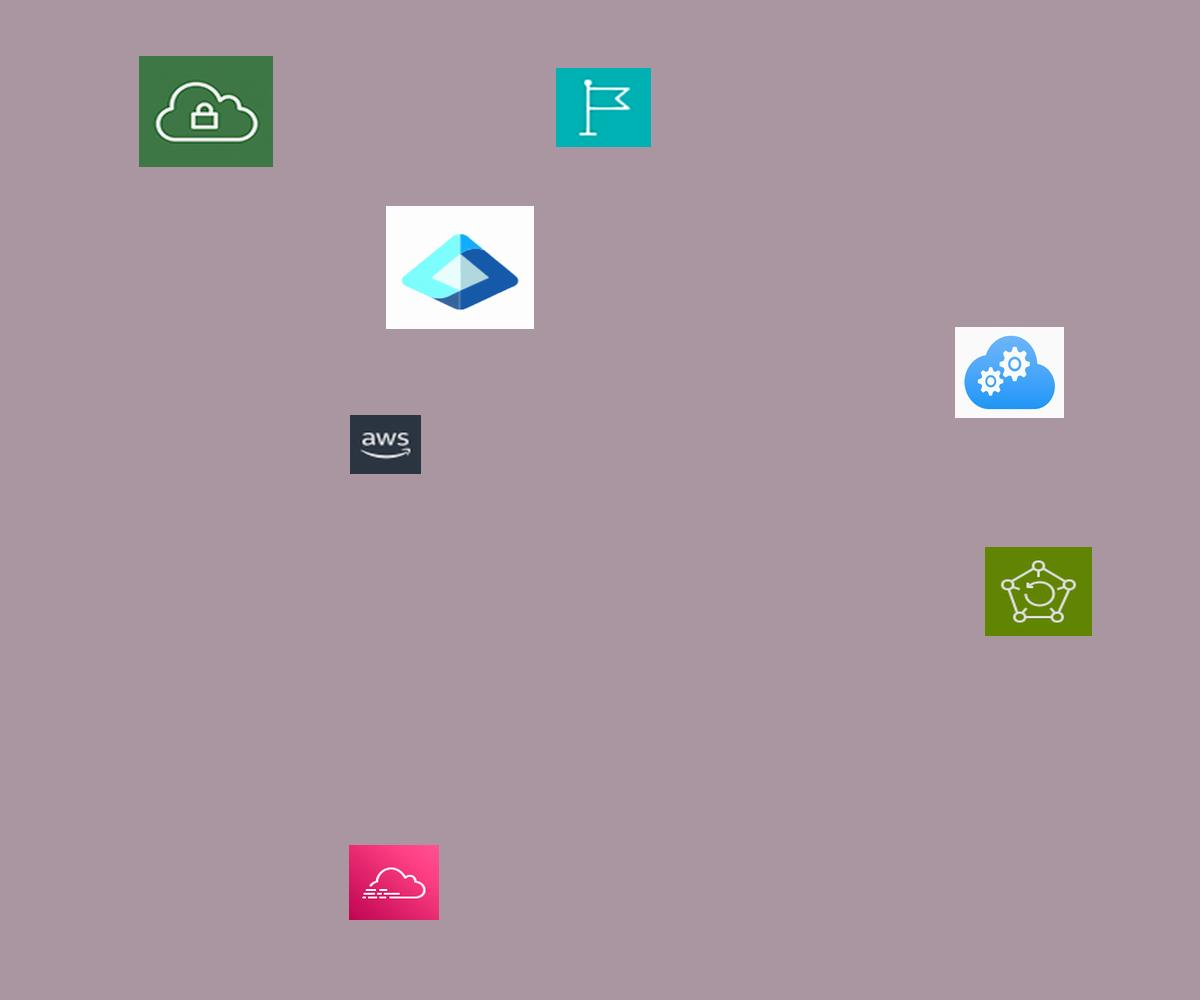AWS-Backup: (985, 547, 1092, 636)
AWS-Cloud-logo: (350, 415, 421, 474)
AWS-CloudTrail: (349, 845, 439, 920)
AWS-Private_vpc: (139, 56, 273, 167)
AWS-Region: (556, 68, 651, 147)
Azure_cloud_services: (955, 327, 1064, 418)
Azure_microsoft_entra: (386, 206, 534, 329)
